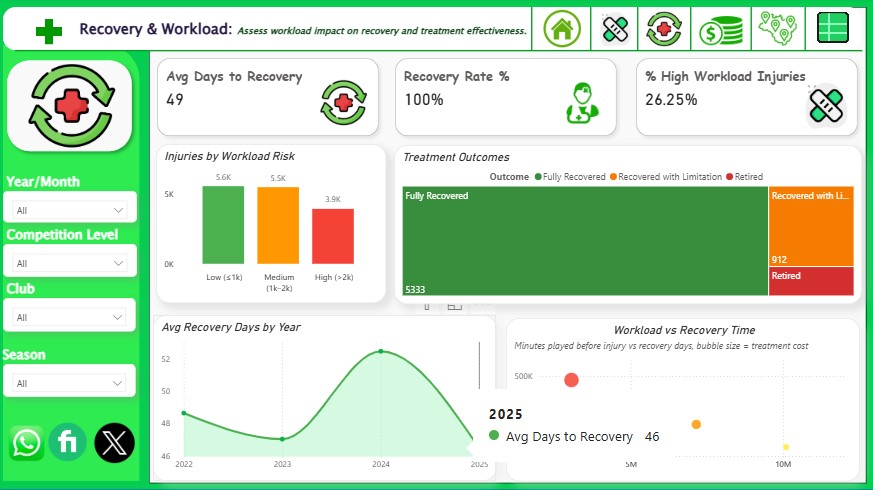

Layout of this report page (visuals, bound fields, positions):
{"tool":"powerbi","page":{"name":"Rec&Work","canvas":[1280,720],"ordinal":2},"visuals":[{"type":"shape","box":[0,0,1280.2,720],"z":0},{"type":"shape","box":[5.8,69.1,200.2,637.9],"z":1000},{"type":"shape","box":[218.9,13,1049.8,697],"z":2000},{"type":"shape","box":[5.8,13,1255.7,63.4],"z":3000},{"type":"textbox","box":[112.3,24.5,861.1,51.8],"z":4000},{"type":"cardVisual","title":"dbdbdbdbd","fields":{"Data":["Measure.Avg Days to Recovery"]},"box":[218.9,76.3,348.5,138.2],"z":5000},{"type":"columnChart","title":"Injuries by Workload Risk","fields":{"Y":["Measure.Total Injuries"],"Category":["FactInjuries.Player Workload Risk"]},"box":[230.4,213.1,337,233.3],"z":6000},{"type":"lineChart","title":"Avg Recovery Days by Year","fields":{"Y":["Measure.Avg Days to Recovery"],"Category":["DateTable.Year"]},"box":[224.6,463.7,502.6,243.4],"z":7000},{"type":"scatterChart","title":"Workload vs Recovery Time","fields":{"X":["Sum(FactInjuries.MinutesPlayedLast30Days)"],"Y":["Sum(FactInjuries.DaysToRecovery)"],"Size":["Sum(FactInjuries.CostOfTreatmentEuros)"],"Category":["DimInjuryType.Severity"]},"box":[741.6,468,518.4,239],"z":8000},{"type":"image","box":[33.1,13,79.2,73.4],"z":9000},{"type":"slicer","title":"Year/Month","fields":{"Values":["DateTable.Year","DateTable.Month Name"]},"box":[5.8,282.2,195.8,46.1],"z":10000},{"type":"textbox","box":[5.8,250.6,149.8,60.5],"z":11000},{"type":"slicer","title":"Year/Month","fields":{"Values":["DimClub.CompetitionLevel"]},"box":[5.8,360,195.8,47.5],"z":12000},{"type":"textbox","box":[5.8,328.3,200.2,60.5],"z":13000},{"type":"slicer","title":"Year/Month","fields":{"Values":["DimClub.ClubTeamName"]},"box":[5.8,439.2,194.4,49],"z":14000},{"type":"textbox","box":[5.8,407.5,149.8,60.5],"z":15000},{"type":"cardVisual","title":"dbdbdbdbd","fields":{"Data":["Measure.% High Workload Injuries"]},"box":[920.2,76.3,348.5,138.2],"z":16000},{"type":"cardVisual","title":"dbdbdbdbd","fields":{"Data":["Measure.Recovery Rate %"]},"box":[567.4,76.3,348.5,138.2],"z":17000},{"type":"treemap","title":"Treatment Outcomes","fields":{"Group":["DimTreatment.Outcome"],"Values":["Measure.Total Injuries"]},"box":[577.4,214.6,685.4,233.3],"z":18000},{"type":"image","box":[815,115.2,74.9,74.9],"z":19000},{"type":"slicer","title":"Year/Month","fields":{"Values":["FactInjuries.Season"]},"box":[5.8,535.7,194.4,47.5],"z":20000},{"type":"textbox","box":[0,504,200.2,56.2],"z":21000},{"type":"image","box":[465.1,108,77.8,89.3],"z":22000},{"type":"image","box":[1169.3,116.6,83.5,80.6],"z":23000},{"type":"image","box":[792,10.1,64.8,69.1],"z":24000},{"type":"image","box":[871.2,10.1,63.4,70.6],"z":25000},{"type":"image","box":[941.8,7.2,61.9,76.3],"z":26000},{"type":"image","box":[1019.5,7.2,73.4,80.6],"z":27000},{"type":"shape","box":[756,13,46.1,63.4],"z":28000},{"type":"shape","box":[842.4,13,46.1,63.4],"z":29000},{"type":"shape","box":[911.5,13,46.1,63.4],"z":30000},{"type":"shape","box":[989.3,13,46.1,63.4],"z":31000},{"type":"shape","box":[1075.7,13,50.4,63.4],"z":32000},{"type":"shape","box":[1154.9,13,50.4,63.4],"z":33000},{"type":"shape","box":[23,46.1,1239.8,63.4],"z":34000},{"type":"image","box":[1105.9,11.5,66.2,66.2],"z":35000},{"type":"image","box":[1180.8,11.5,76.3,60.5],"z":36000},{"type":"shape","box":[2.9,82.1,200.2,151.2],"z":37000},{"type":"image","box":[37.4,73.4,136.8,169.9],"z":38000},{"type":"image","box":[0,614.9,80.6,73.4],"z":39000},{"type":"image","box":[67.7,614.9,66.2,69.1],"z":40000},{"type":"image","box":[133.9,614.9,69.1,72],"z":41000}]}

Visuals, with their boxes in screenshot pixels (x1, y1, x2, y2), scaled from the page's 1280x720 canvas onto the 873x490 screenshot:
shape: [0, 0, 872, 489]
shape: [4, 47, 140, 481]
shape: [149, 9, 865, 483]
shape: [4, 9, 860, 52]
textbox: [77, 17, 664, 52]
"dbdbdbdbd" cardVisual: [149, 52, 387, 146]
"Injuries by Workload Risk" columnChart: [157, 145, 387, 304]
"Avg Recovery Days by Year" lineChart: [153, 316, 496, 481]
"Workload vs Recovery Time" scatterChart: [506, 318, 859, 481]
image: [23, 9, 77, 59]
"Year/Month" slicer: [4, 192, 137, 223]
textbox: [4, 171, 106, 212]
"Year/Month" slicer: [4, 245, 137, 277]
textbox: [4, 223, 140, 265]
"Year/Month" slicer: [4, 299, 137, 332]
textbox: [4, 277, 106, 318]
"dbdbdbdbd" cardVisual: [628, 52, 865, 146]
"dbdbdbdbd" cardVisual: [387, 52, 625, 146]
"Treatment Outcomes" treemap: [394, 146, 861, 305]
image: [556, 78, 607, 129]
"Year/Month" slicer: [4, 365, 137, 397]
textbox: [0, 343, 137, 381]
image: [317, 74, 370, 134]
image: [797, 79, 854, 134]
image: [540, 7, 584, 54]
image: [594, 7, 637, 55]
image: [642, 5, 685, 57]
image: [695, 5, 745, 60]
shape: [516, 9, 547, 52]
shape: [575, 9, 606, 52]
shape: [622, 9, 653, 52]
shape: [675, 9, 706, 52]
shape: [734, 9, 768, 52]
shape: [788, 9, 822, 52]
shape: [16, 31, 861, 75]
image: [754, 8, 799, 53]
image: [805, 8, 857, 49]
shape: [2, 56, 139, 159]
image: [26, 50, 119, 166]
image: [0, 418, 55, 468]
image: [46, 418, 91, 466]
image: [91, 418, 138, 467]
